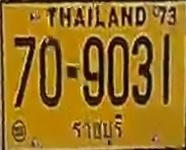0: (39, 36, 62, 107), (107, 36, 128, 105)
1: (162, 33, 170, 105)
3: (131, 36, 152, 103)
7: (14, 36, 35, 107)
9: (82, 38, 104, 106)
RBR: (70, 112, 124, 147)
